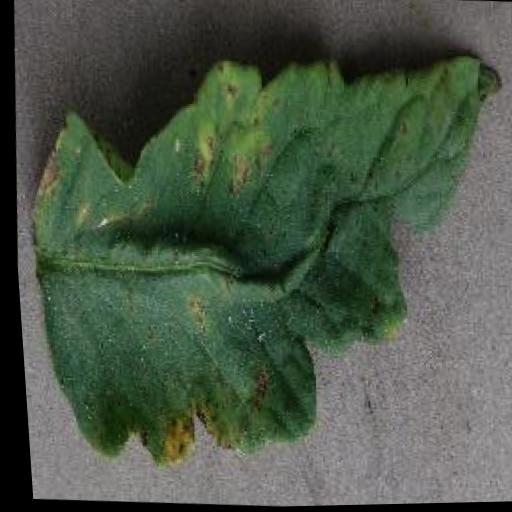Bacterial Spot: (1, 16, 512, 496)
